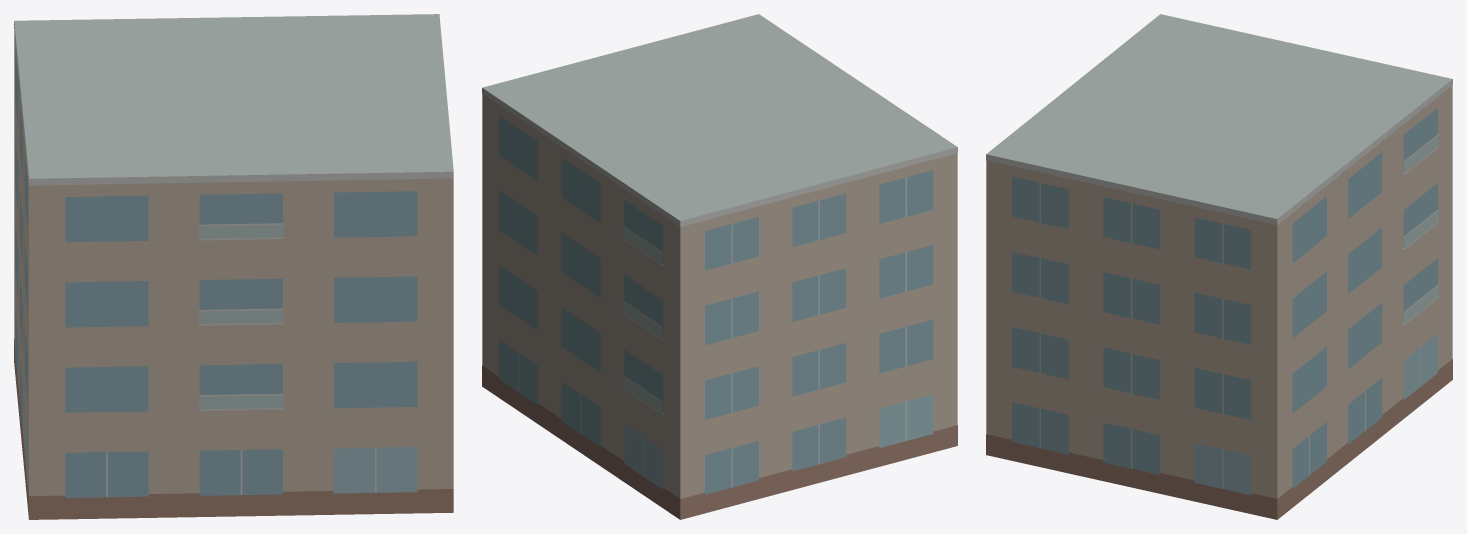
File: survey-upis-32888857.glb
3 views of the same model, side by side, from view 1: azimuth 30°, elevation 25°; view 2: azimuth 150°, elevation 25°; view 3: azimuth 270°, elevation 25° (orthographic). The views are drawn at different scales.
Parts seen in each view (by area): view 1: survey-upis-32888857.tmp; view 2: survey-upis-32888857.tmp; view 3: survey-upis-32888857.tmp.
Part boxes in pixels (bbox=[...]): survey-upis-32888857.tmp: bbox=[14, 14, 453, 519]; survey-upis-32888857.tmp: bbox=[482, 14, 957, 519]; survey-upis-32888857.tmp: bbox=[986, 14, 1452, 519].
Size of the model in its own units: 17.85 by 12.2 by 17.16.
